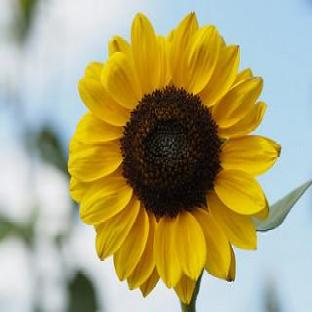sunflower: (67, 12, 312, 312)
